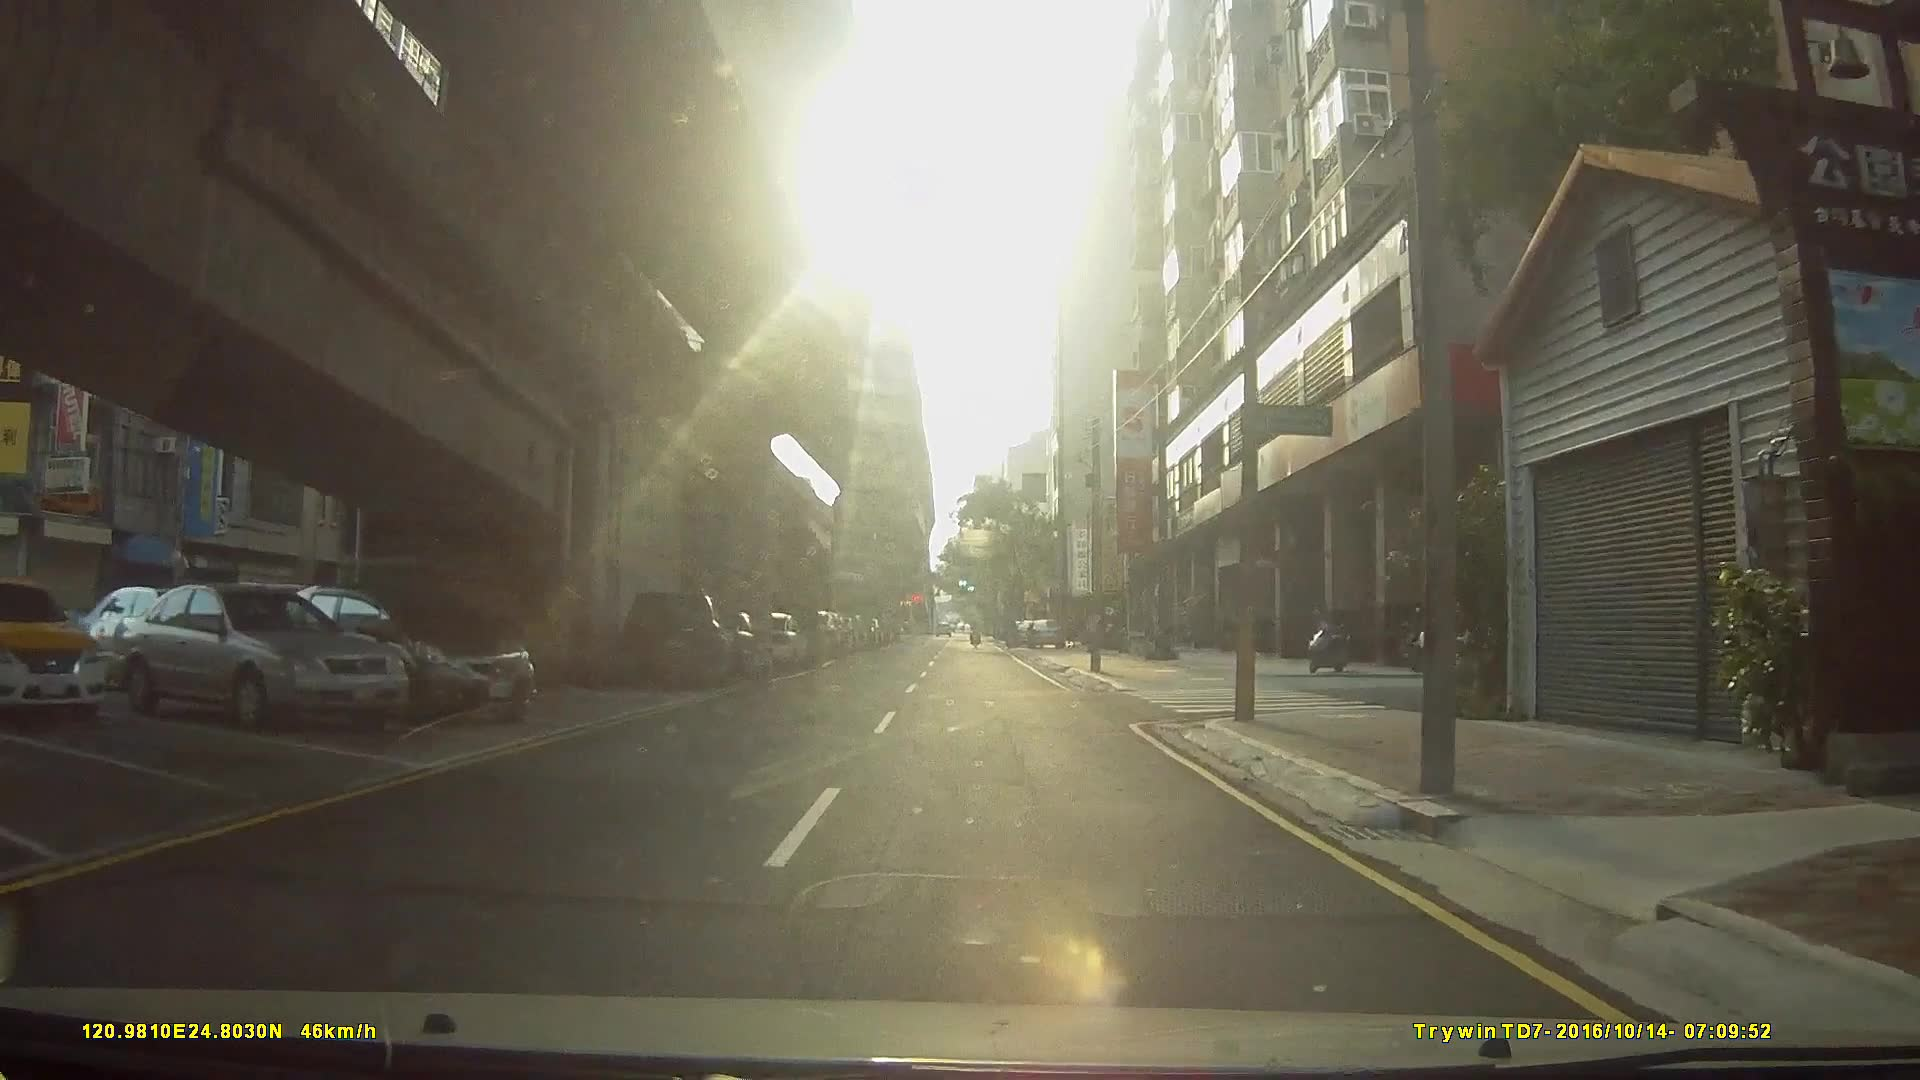vehicle: (109, 584, 407, 732), (286, 582, 543, 727), (0, 576, 107, 723), (615, 589, 738, 691), (1029, 616, 1064, 650)
